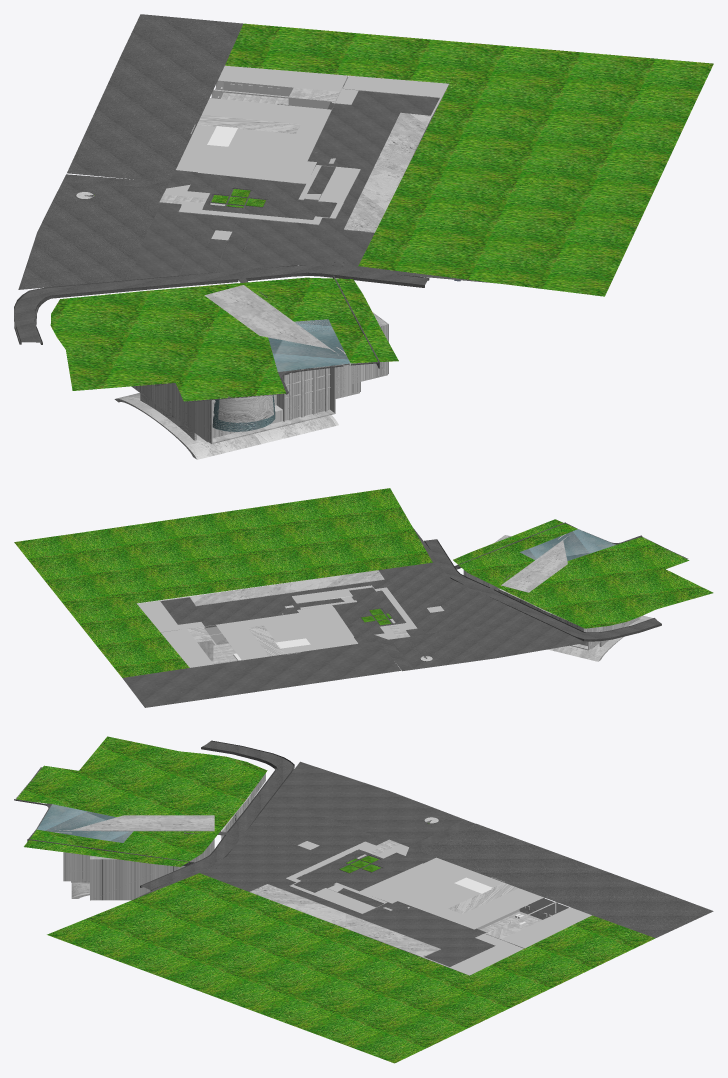
The model's file is tecobj.obj.
3 views of the same model, one above another, from view 1: azimuth 30°, elevation 25°; view 2: azimuth 150°, elevation 25°; view 3: azimuth 270°, elevation 25° (orthographic). The views are drawn at different scales.
Parts seen in each view (by area): view 1: top1 polySurface399, top1 polySurface363, top1 polySurface437, top1 polySurface160, top1 polySurface431, top1 polySurface346, top1 polySurface362, top1 polySurface409, top1 polySurface383, top1 polySurface359, top1 polySurface425, top1 polySurface439 (+6 smaller); view 2: top1 polySurface399, top1 polySurface363, top1 polySurface437, top1 polySurface160, top1 polySurface346, top1 polySurface362, top1 polySurface431, top1 polySurface383, top1 polySurface359, top1 polySurface409, top1 polySurface439, top1 polySurface365 (+3 smaller); view 3: top1 polySurface399, top1 polySurface363, top1 polySurface437, top1 polySurface160, top1 polySurface346, top1 polySurface431, top1 polySurface362, top1 polySurface257, top1 polySurface383, top1 polySurface359, top1 polySurface439, top1 polySurface358.
Part boxes in pixels (<box>): top1 polySurface399: <box>67,14,713,296</box>; top1 polySurface363: <box>18,84,497,289</box>; top1 polySurface437: <box>50,277,398,401</box>; top1 polySurface160: <box>176,65,348,184</box>; top1 polySurface431: <box>131,285,343,443</box>; top1 polySurface346: <box>14,265,429,344</box>; top1 polySurface362: <box>344,112,431,232</box>; top1 polySurface409: <box>114,393,338,459</box>; top1 polySurface383: <box>342,75,448,116</box>; top1 polySurface359: <box>298,165,360,217</box>; top1 polySurface425: <box>218,394,273,422</box>; top1 polySurface439: <box>197,115,300,133</box>; top1 polySurface399: <box>14,488,432,707</box>; top1 polySurface363: <box>160,528,586,671</box>; top1 polySurface437: <box>453,519,713,628</box>; top1 polySurface160: <box>161,605,357,667</box>; top1 polySurface346: <box>424,539,661,641</box>; top1 polySurface362: <box>189,570,384,606</box>; top1 polySurface431: <box>501,535,629,650</box>; top1 polySurface383: <box>137,596,189,632</box>; top1 polySurface359: <box>291,585,372,609</box>; top1 polySurface409: <box>548,615,656,661</box>; top1 polySurface439: <box>248,625,284,656</box>; top1 polySurface365: <box>187,626,213,660</box>; top1 polySurface399: <box>47,823,713,1063</box>; top1 polySurface363: <box>133,761,494,966</box>; top1 polySurface437: <box>16,736,267,866</box>; top1 polySurface160: <box>360,857,591,948</box>; top1 polySurface346: <box>140,740,294,890</box>; top1 polySurface431: <box>55,815,214,882</box>; top1 polySurface362: <box>250,884,440,957</box>; top1 polySurface257: <box>90,855,185,900</box>; top1 polySurface383: <box>421,941,523,975</box>; top1 polySurface359: <box>291,882,387,913</box>; top1 polySurface439: <box>448,882,519,929</box>; top1 polySurface358: <box>285,841,377,894</box>.
Bounding box in the file's own units: 13657 × 1275 × 12332.
